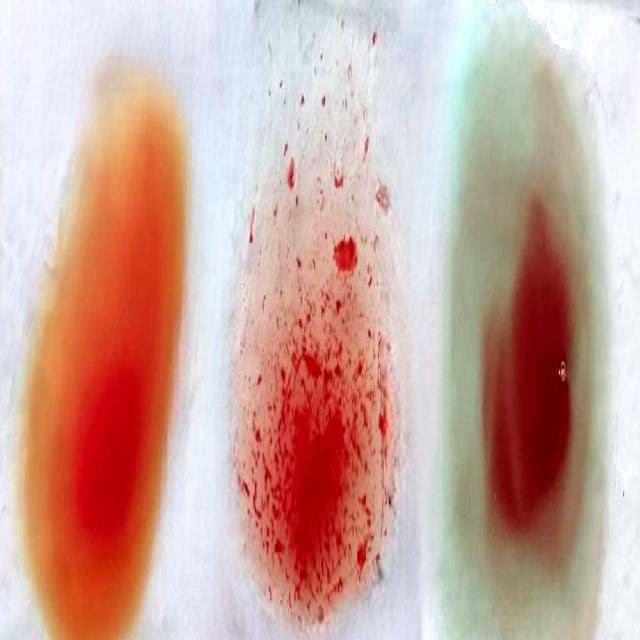D: (242, 38, 398, 639)
